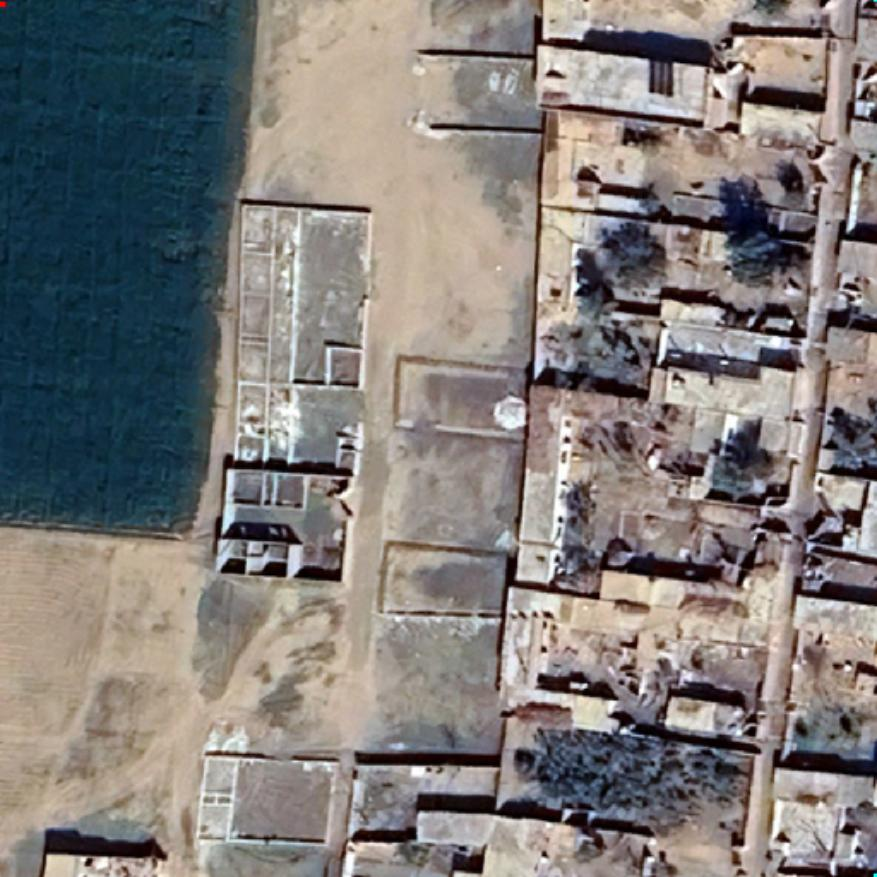Solarpanel: (644, 56, 678, 100)
